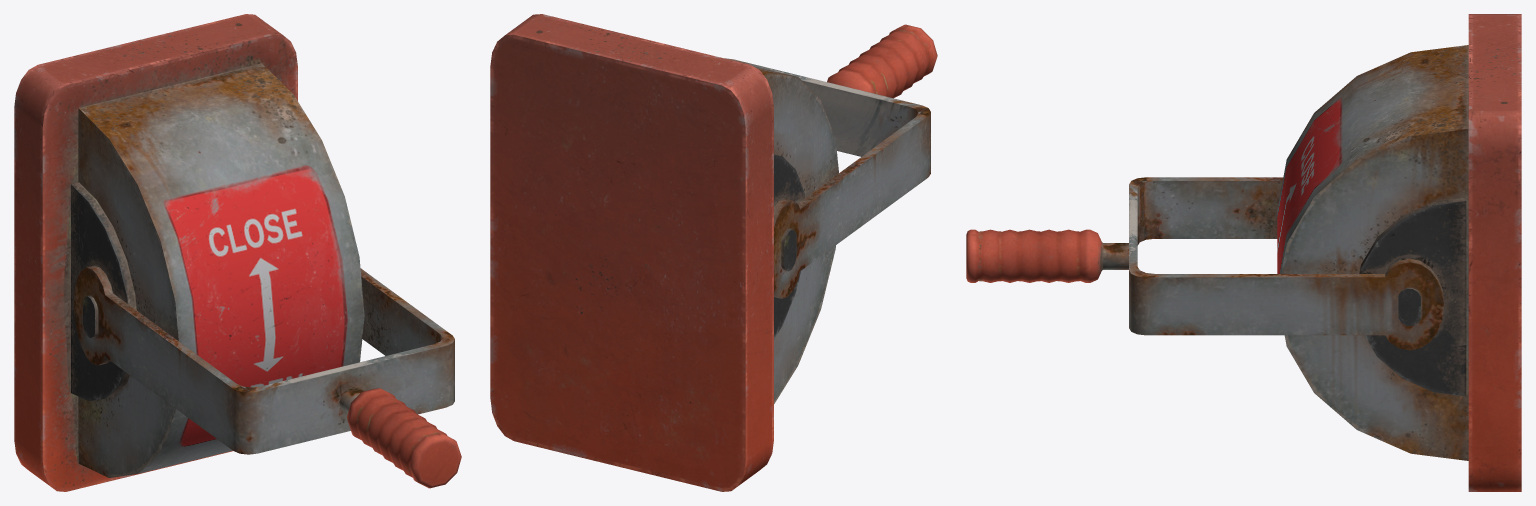
Rendered from lever_switch.glb.
The picture shows the model from 3 angles, left to right: view 1: azimuth 30°, elevation 25°; view 2: azimuth 150°, elevation 25°; view 3: azimuth 270°, elevation 25°; orthographic projection. The views are drawn at different scales.
Visible parts, largest first — view 1: SM_Switch_A.mo, SM_Switch_A_Lever.mo; view 2: SM_Switch_A.mo, SM_Switch_A_Lever.mo; view 3: SM_Switch_A.mo, SM_Switch_A_Lever.mo.
Part boxes in pixels (x1,y1,x2,y2): SM_Switch_A.mo: (14,14,364,491); SM_Switch_A_Lever.mo: (73,265,461,488); SM_Switch_A.mo: (490,14,838,491); SM_Switch_A_Lever.mo: (725,24,937,298); SM_Switch_A.mo: (1277,14,1521,491); SM_Switch_A_Lever.mo: (966,177,1444,350).
Bounding box in the file's own units: 0.7995 × 1.22 × 1.61.
2 materials, 2 textured.
